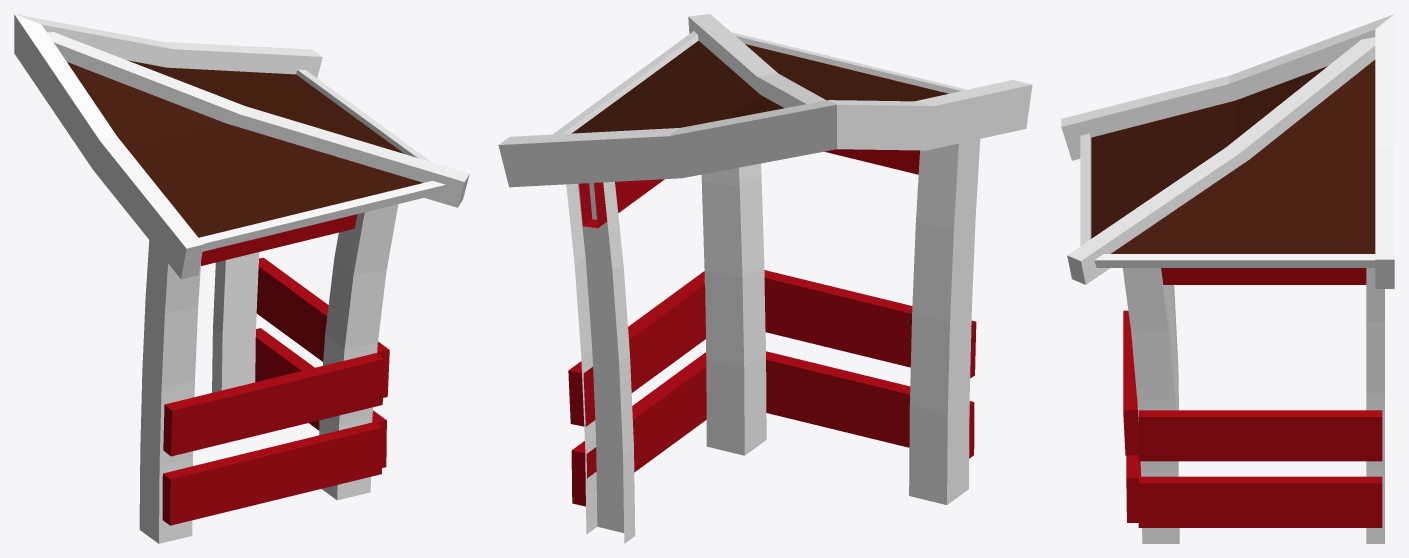
The model's file is Animal_Shed_Corner_OUT_R (2).fbx.
3 renders of one model, left to right at view 1: azimuth 30°, elevation 25°; view 2: azimuth 150°, elevation 25°; view 3: azimuth 270°, elevation 25°, orthographic. The views are drawn at different scales.
Visible parts, largest first — view 1: Corner_Out_L.001; view 2: Corner_Out_L.001; view 3: Corner_Out_L.001.
Boxes of the visible parts, box(x1,y1,x2,y2) form: Corner_Out_L.001: box(14, 14, 469, 543); Corner_Out_L.001: box(498, 14, 1032, 543); Corner_Out_L.001: box(1061, 14, 1394, 543).
Size of the model in its own units: 134 by 188 by 134.
